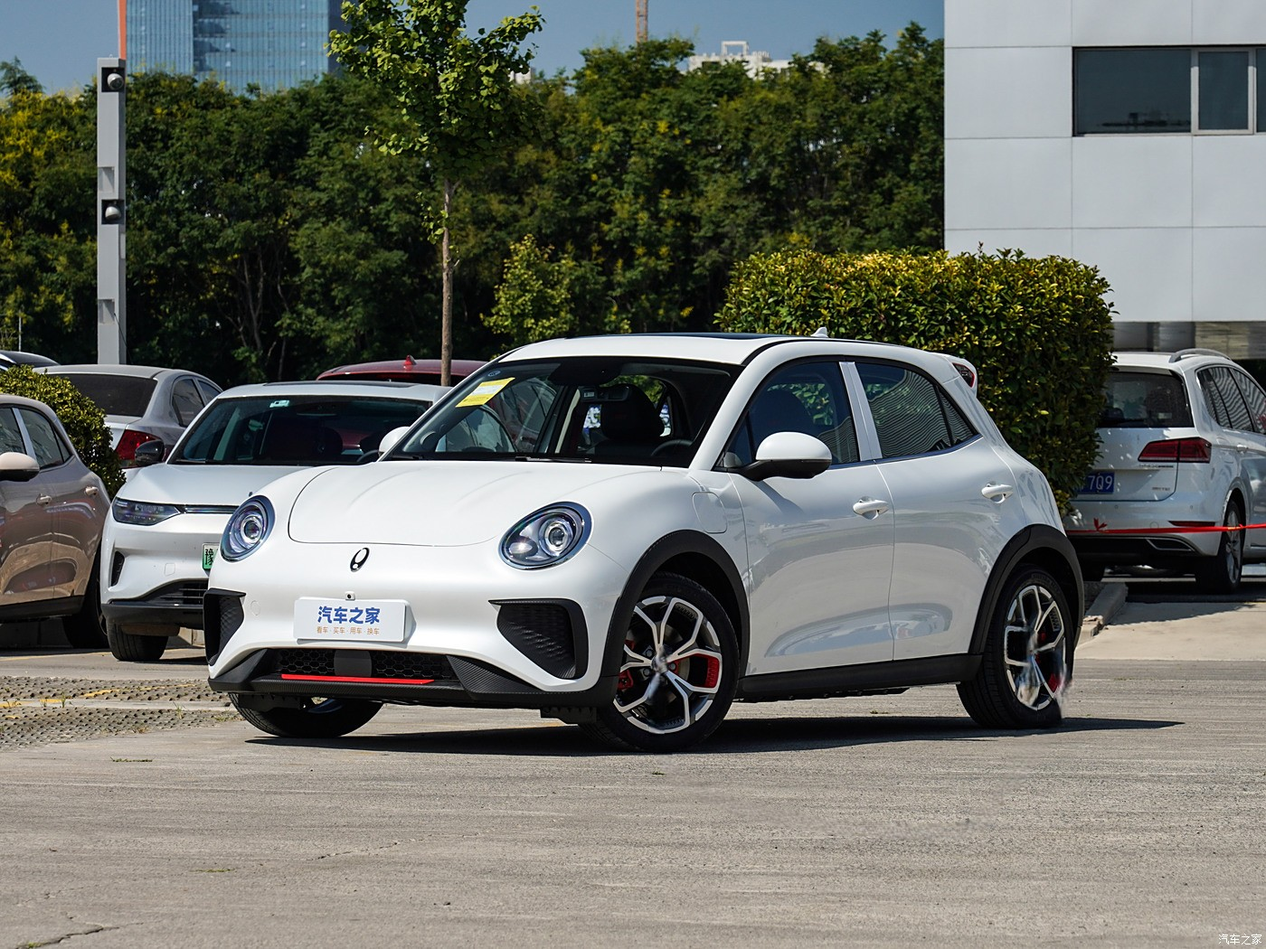ORA: (350, 548, 369, 571)
